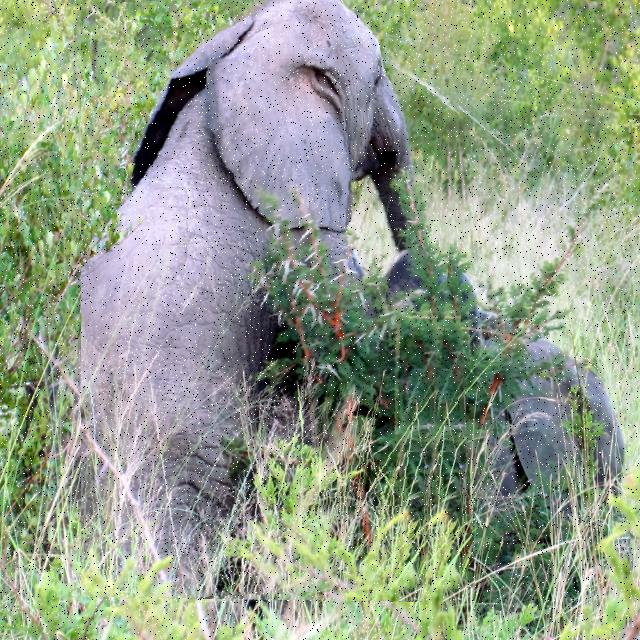elephant: (81, 0, 468, 602)
